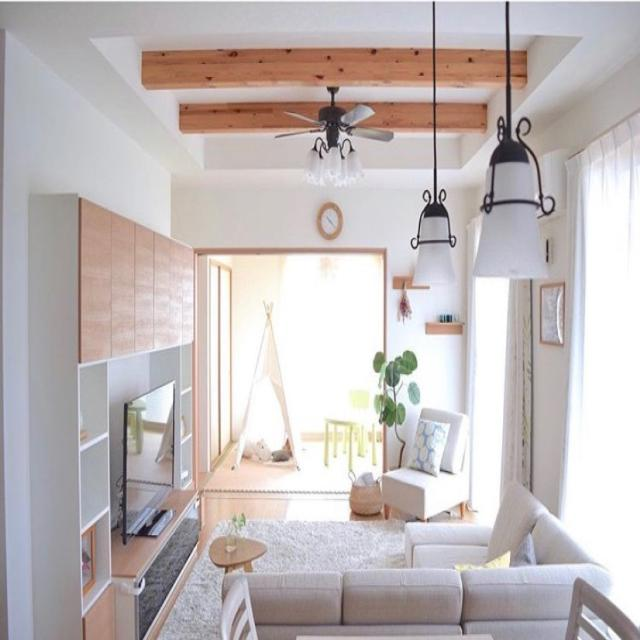natural chair: (382, 401, 471, 519)
natural sofa: (222, 480, 616, 640)
